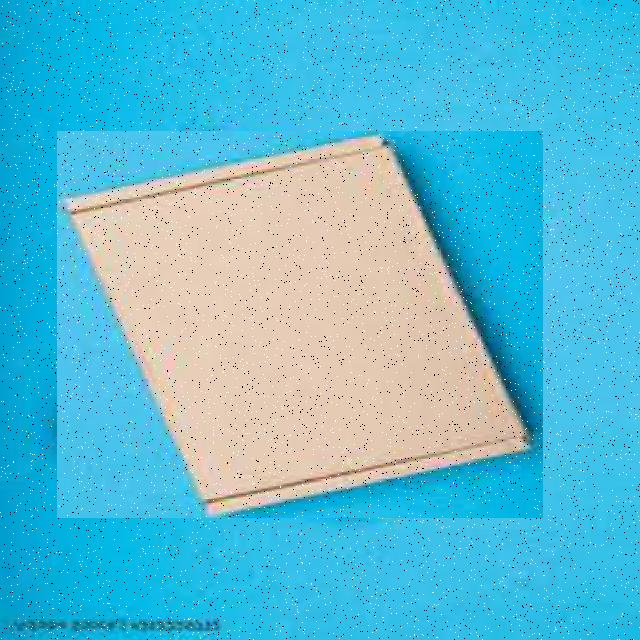normal: (57, 131, 543, 518)
